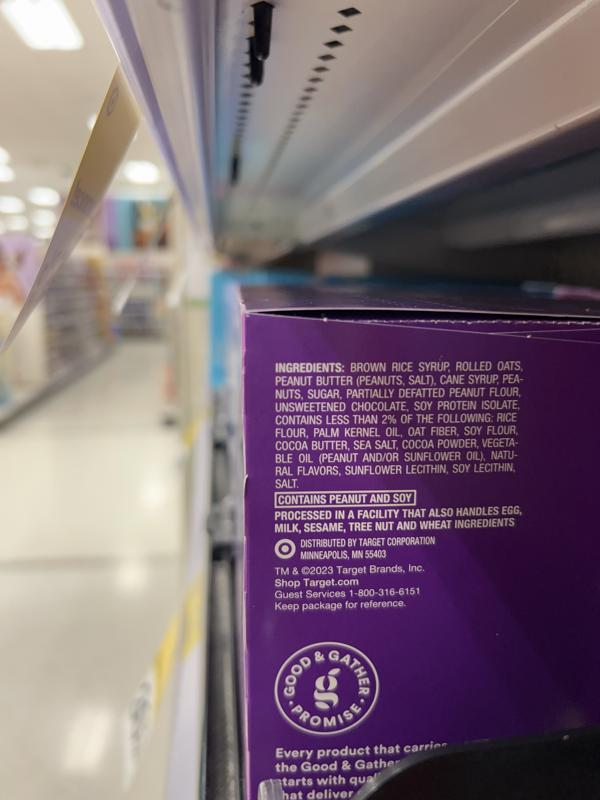ingredients: (269, 357, 525, 492)
